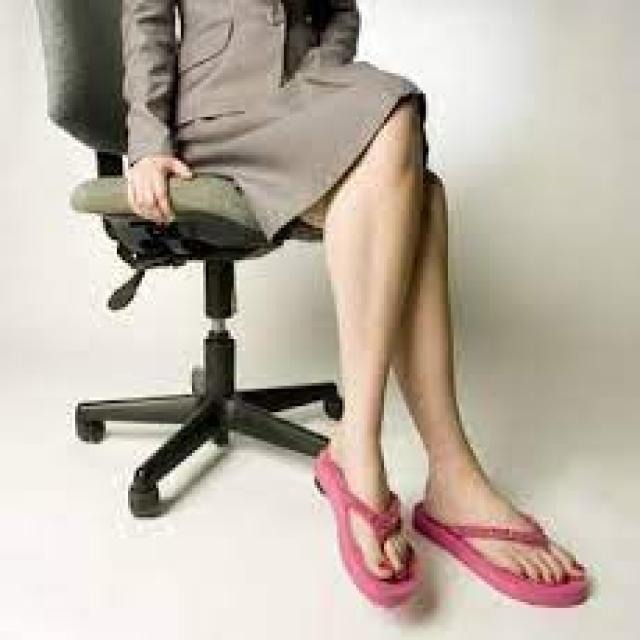Sandals: (411, 459, 593, 607)
